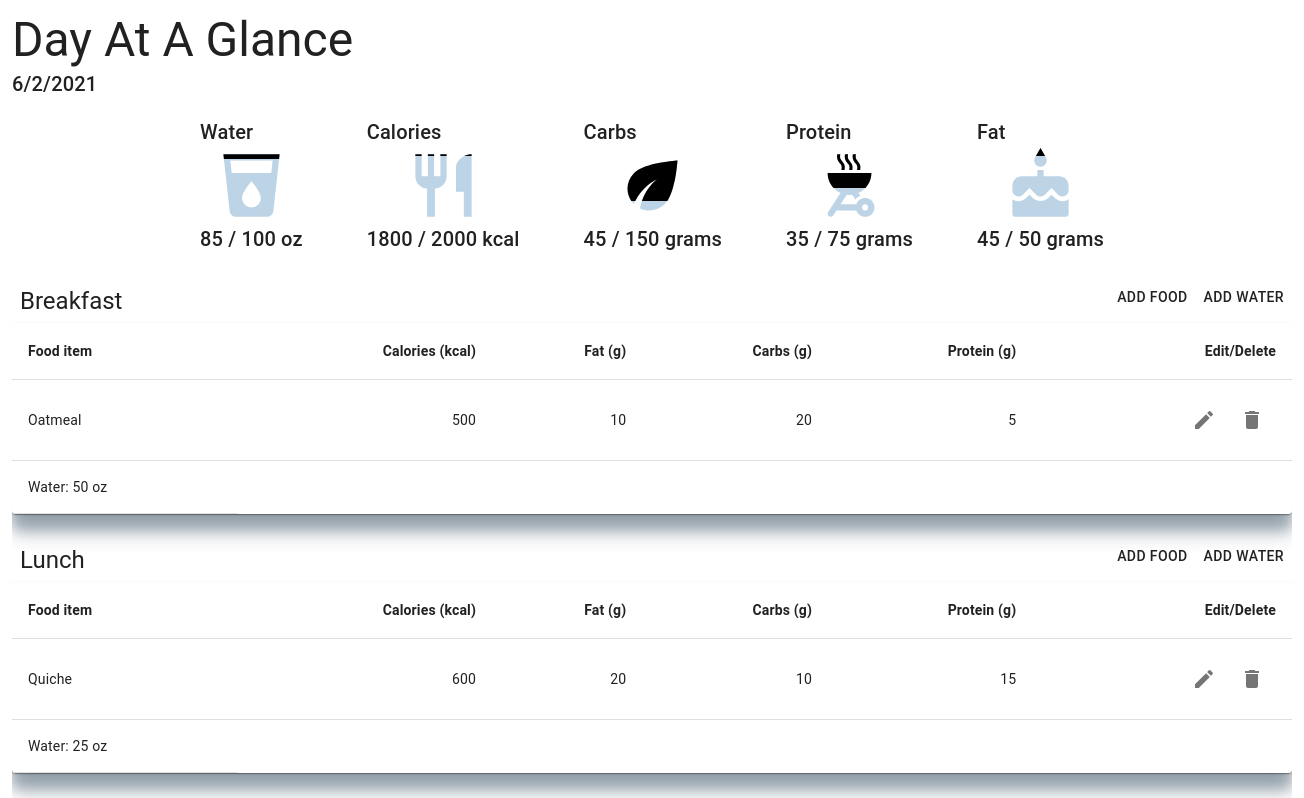
Test: Product Information component › The user should be able to delete a food item
Click the 1st button with test id "deleteFoodButton" at (1252, 420), box [1228,396,1276,444]
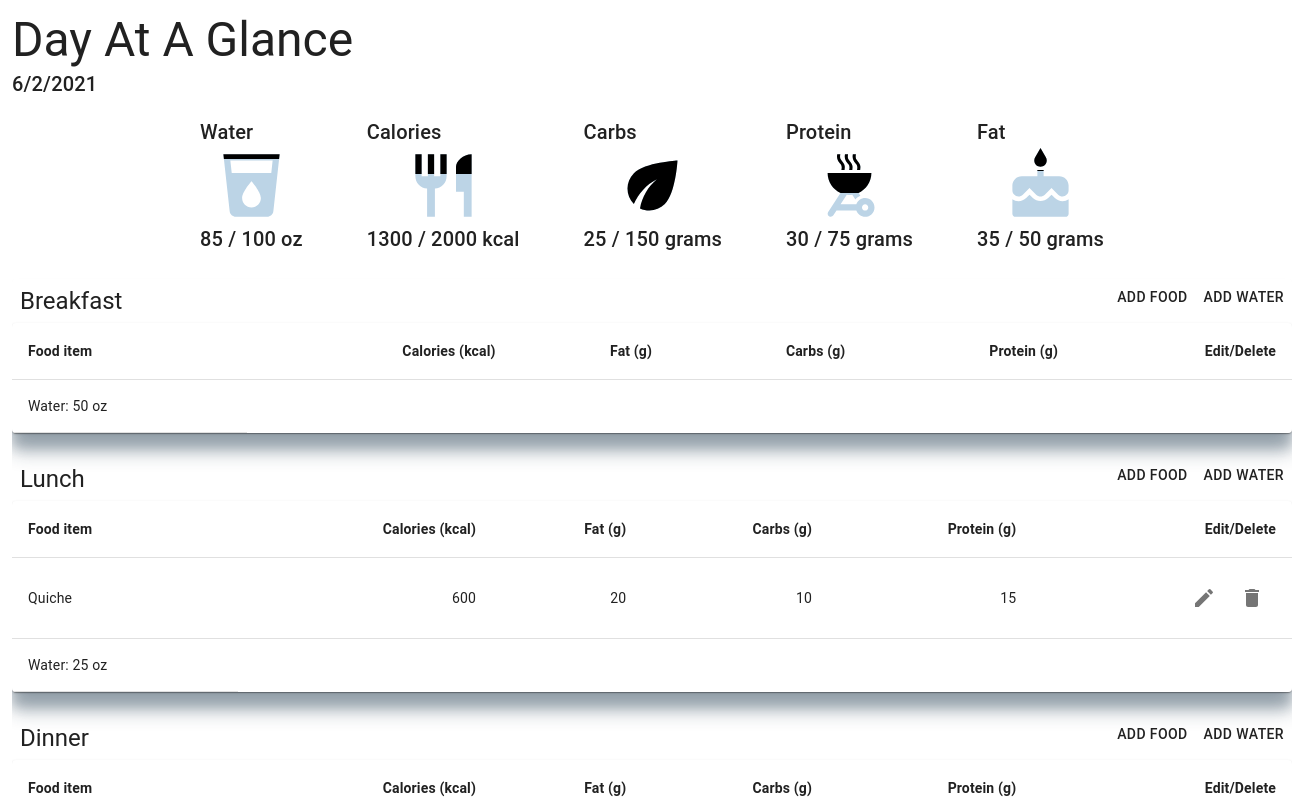
Expected: the number of rows with test id "foodItem" is 2
